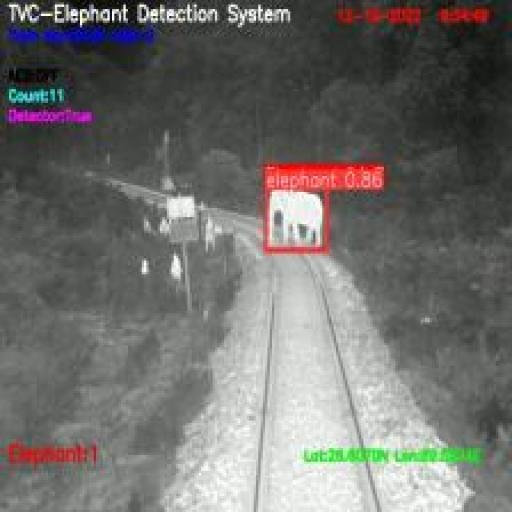Elephant: (265, 188, 326, 250)
